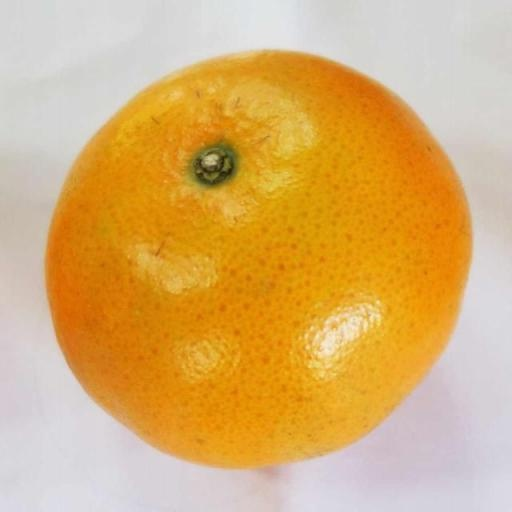fruit: (46, 52, 470, 467)
